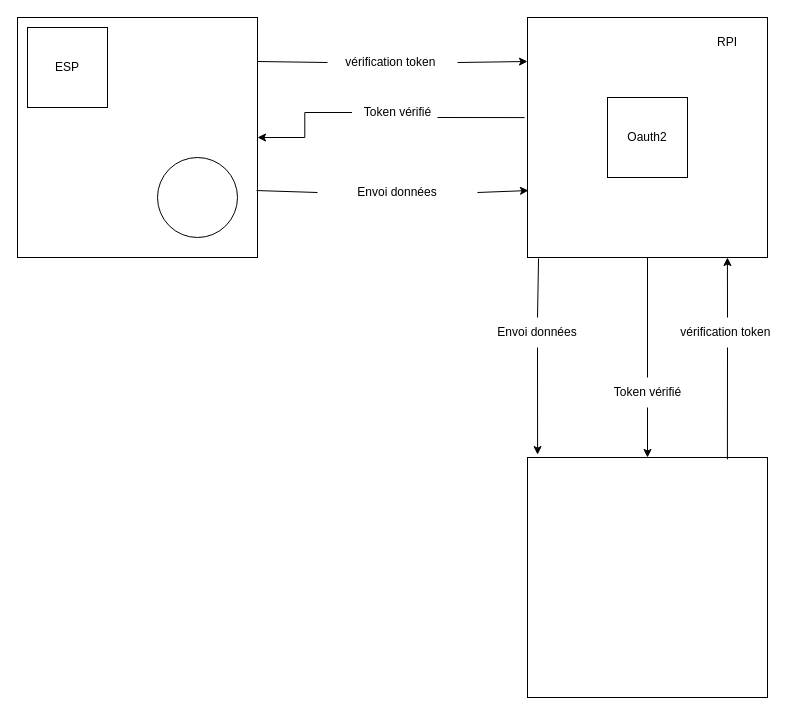
This 810x715 diagram has some shape labels left out. The centre of each missing label's shape, as x and y in pixels:
"Capteur" goes at [197,197].
"Page WEB" goes at [647,577].
